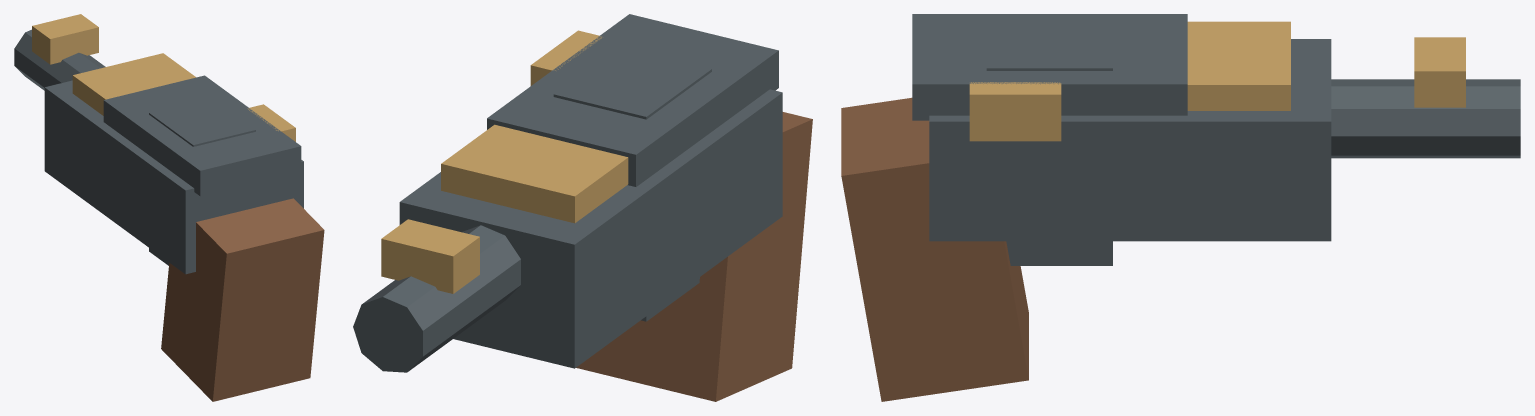
Rendered from spark-pistol.glb.
3 views of the same model, side by side, from view 1: azimuth 30°, elevation 25°; view 2: azimuth 150°, elevation 25°; view 3: azimuth 270°, elevation 25° (orthographic). The views are drawn at different scales.
Visible parts, largest first — view 1: ReceiverGeometry, BoltGeometry, MagazineGeometry; view 2: ReceiverGeometry, BoltGeometry, MagazineGeometry; view 3: ReceiverGeometry, BoltGeometry, MagazineGeometry.
Boxes of the visible parts, x1,y1,x2,y2 form: ReceiverGeometry: [14, 14, 324, 401]; BoltGeometry: [103, 75, 301, 196]; MagazineGeometry: [149, 97, 255, 265]; ReceiverGeometry: [353, 89, 812, 401]; BoltGeometry: [487, 14, 778, 186]; MagazineGeometry: [553, 46, 711, 321]; ReceiverGeometry: [841, 21, 1520, 401]; BoltGeometry: [912, 14, 1187, 141]; MagazineGeometry: [986, 24, 1112, 265].
Size of the model in its own units: 0.1785 by 0.309 by 0.5917.
